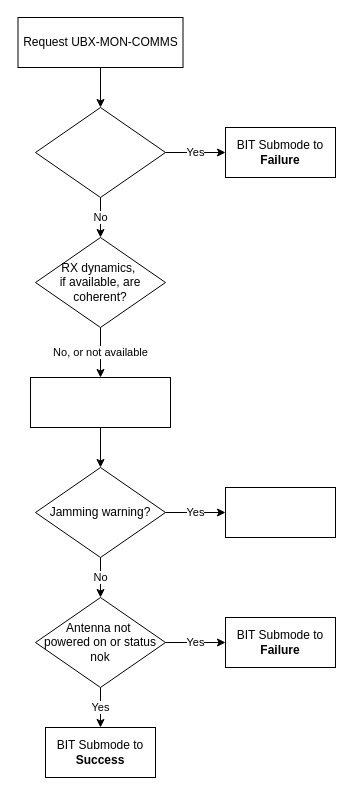
Some shapes in this 353 by 795 pixel diagram are drawn without their labels. Here are the shapes that lost their labels. From the top down, the centre of each, then its label:
At (x=100, y=152): "TX Errors mem/alloc".
At (x=100, y=402): "Request UBX-MON-RF".
At (x=280, y=512): "Log jamming alert".
